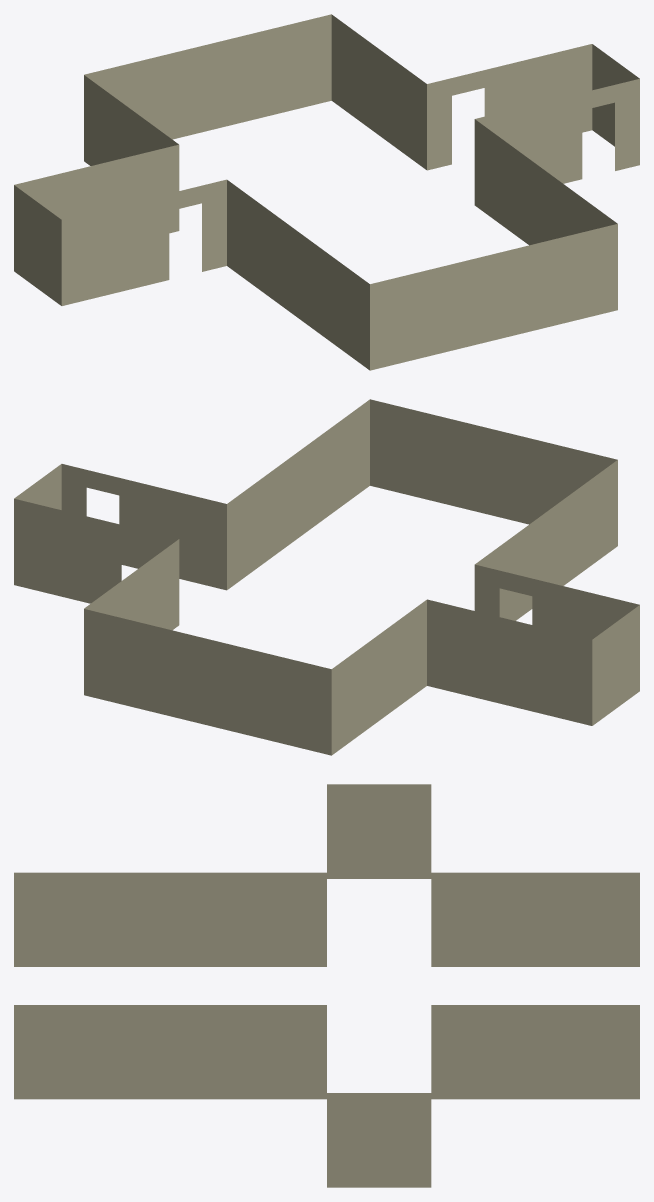
The model's file is Homeworld_Interior_Md_Room_C_Filling_01_Vo.fbx.
3 views of the same model, one above another, from view 1: azimuth 30°, elevation 25°; view 2: azimuth 150°, elevation 25°; view 3: azimuth 270°, elevation 25° (orthographic). The views are drawn at different scales.
Parts seen in each view (by area): view 1: Homeworld_Interior_Md_Room_C_Filling_01_Vo; view 2: Homeworld_Interior_Md_Room_C_Filling_01_Vo; view 3: Homeworld_Interior_Md_Room_C_Filling_01_Vo.
Boxes of the visible parts, x1,y1,x2,y2 form: Homeworld_Interior_Md_Room_C_Filling_01_Vo: (14, 14, 639, 370); Homeworld_Interior_Md_Room_C_Filling_01_Vo: (14, 399, 639, 755); Homeworld_Interior_Md_Room_C_Filling_01_Vo: (14, 784, 639, 1187).
Bounding box in the file's own units: 35 × 5 × 30.
